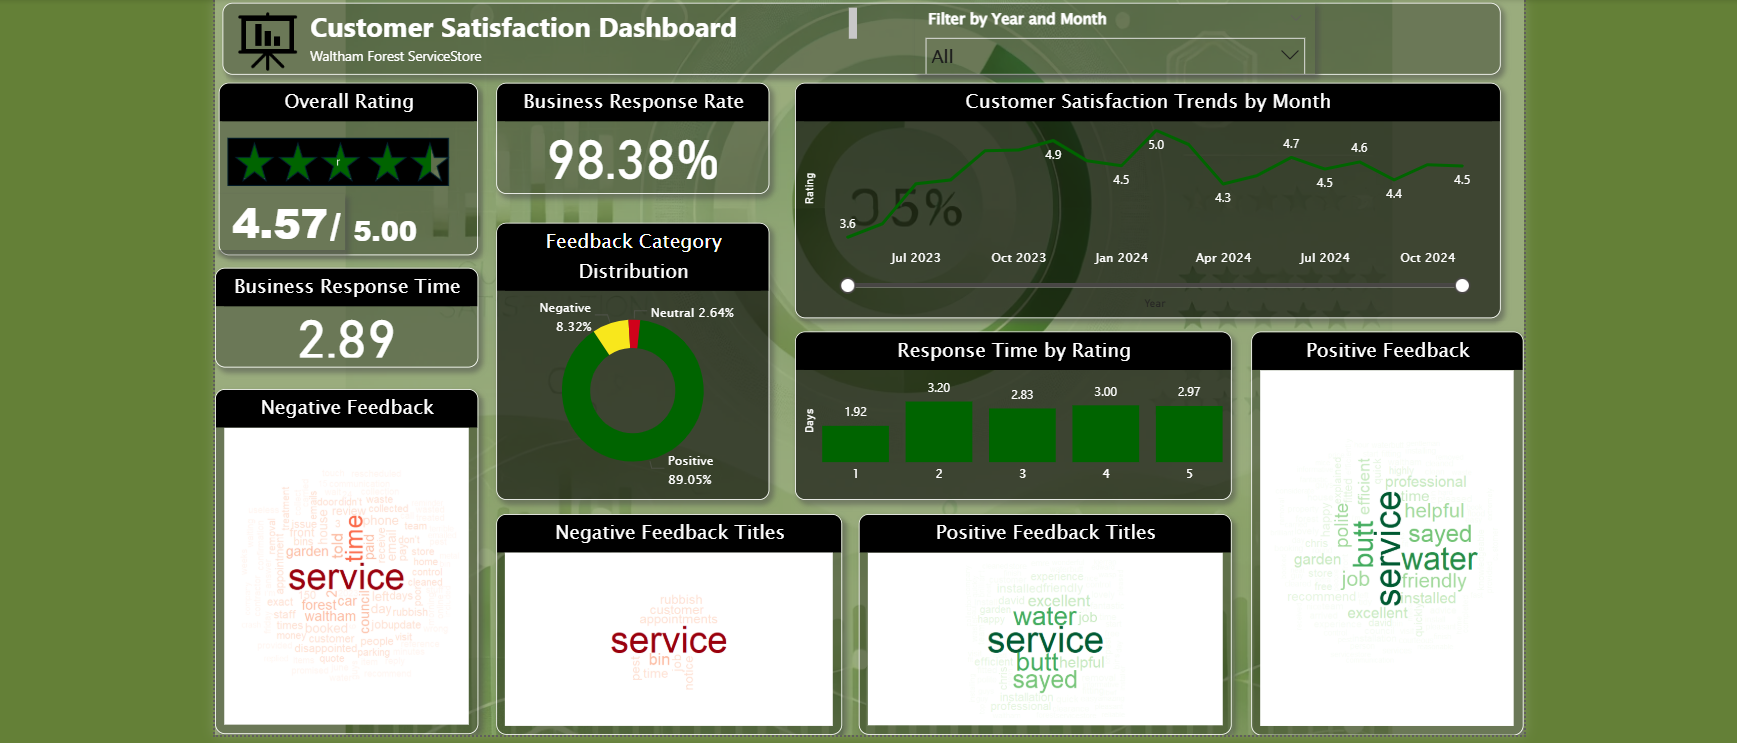

The page's visual inventory and layout, read from the dashboard file:
{"tool":"powerbi","page":{"name":"Customer Satisfaction Dashboard","canvas":[1280,720],"ordinal":0},"visuals":[{"type":"shape","box":[7.5,3.8,1250,70],"z":0},{"type":"shape","title":"Overall Rating","box":[3.8,82.5,253.8,168.8],"z":1000},{"type":"slicer","fields":{"Values":["Updated_customer_reviews.Review_given_date.Variation.Date Hierarchy.Year","Updated_customer_reviews.Review_given_date.Variation.Date Hierarchy.Month"]},"box":[684.8,3.7,391.3,69.7],"z":2000},{"type":"donutChart","title":"Feedback Category Distribution","fields":{"Category":["Updated_customer_reviews.feedback_category"],"Y":["Updated_customer_reviews.feedback_category"]},"box":[275,218.8,267.5,271.2],"z":3000},{"type":"columnChart","title":"Response Time by Rating","fields":{"Category":["Updated_customer_reviews.Rating"],"Y":["Updated_customer_reviews.response_time"]},"box":[567.5,325,427.5,165],"z":4000},{"type":"lineChart","title":"Customer Satisfaction Trends by Month","fields":{"Y":["Measures_table.average_rating"],"Category":["Updated_customer_reviews.Review_given_date.Variation.Date Hierarchy.Year","Updated_customer_reviews.Review_given_date.Variation.Date Hierarchy.Month"]},"box":[567.5,82.5,690,230],"z":5000},{"type":"card","title":"Business Response Time","fields":{"Values":["Updated_customer_reviews.response_time"]},"box":[0,262.5,257.5,97.5],"z":6000},{"type":"card","title":"Business Response Rate","fields":{"Values":["Updated_customer_reviews.response_ratio"]},"box":[275,82.5,267.5,108.8],"z":7000},{"type":"card","title":"Overall Rating","fields":{"Values":["Updated_customer_reviews.average_rating"]},"box":[0,191.2,127.5,55],"z":8000},{"type":"textbox","box":[107.5,191.2,300,163.8],"z":9000},{"type":"barChart","fields":{"Y":["Updated_customer_reviews.average_rating"]},"box":[16.2,83.8,218.8,145],"z":10000},{"type":"image","box":[7.5,115,227.5,88.8],"z":11000},{"type":"image","box":[0,0,103.8,82.5],"z":12000},{"type":"textbox","box":[87.5,3.8,545,42.5],"z":13000},{"type":"textbox","box":[87.5,41.2,568.8,32.5],"z":14000},{"type":"scriptVisual","title":"Positive Feedback","fields":{"Values":["Updated_customer_reviews.feedback_category","Updated_customer_reviews.Review"]},"box":[1013.8,325,266.2,395],"z":15000},{"type":"scriptVisual","title":"Negative Feedback","fields":{"Values":["Updated_customer_reviews.feedback_category","Updated_customer_reviews.Review"]},"box":[0,381.2,257.5,337.5],"z":16000},{"type":"scriptVisual","title":"Negative Feedback Titles","fields":{"Values":["Updated_customer_reviews.feedback_category","Updated_customer_reviews.Title"]},"box":[275,503.8,338.8,216.2],"z":17000},{"type":"scriptVisual","title":"Positive Feedback Titles","fields":{"Values":["Updated_customer_reviews.feedback_category","Updated_customer_reviews.Title"]},"box":[630,503.8,365,216.2],"z":18000}]}

Visuals, with their boxes on the page's 1280x720 design canvas (x1, y1, x2, y2). These are canvas units, not pixel positions in the 1737x743 screenshot, which may show the page scaled, cropped or inside an application window:
shape: (8, 4, 1258, 74)
"Overall Rating" shape: (4, 82, 258, 251)
slicer - Updated_customer_reviews.Review_given_date.Variation.Date Hierarchy.Year x Updated_customer_reviews.Review_given_date.Variation.Date Hierarchy.Month: (685, 4, 1076, 73)
"Feedback Category Distribution" donutChart: (275, 219, 542, 490)
"Response Time by Rating" columnChart: (568, 325, 995, 490)
"Customer Satisfaction Trends by Month" lineChart: (568, 82, 1258, 312)
"Business Response Time" card: (0, 262, 258, 360)
"Business Response Rate" card: (275, 82, 542, 191)
"Overall Rating" card: (0, 191, 128, 246)
textbox: (108, 191, 408, 355)
barChart - Updated_customer_reviews.average_rating: (16, 84, 235, 229)
image: (8, 115, 235, 204)
image: (0, 0, 104, 82)
textbox: (88, 4, 632, 46)
textbox: (88, 41, 656, 74)
"Positive Feedback" scriptVisual: (1014, 325, 1280, 720)
"Negative Feedback" scriptVisual: (0, 381, 258, 719)
"Negative Feedback Titles" scriptVisual: (275, 504, 614, 720)
"Positive Feedback Titles" scriptVisual: (630, 504, 995, 720)
